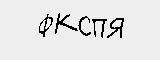К: (55, 12, 78, 34)
П: (92, 17, 108, 39)
С: (78, 16, 92, 37)
Ф: (39, 12, 52, 37)
Я: (108, 16, 125, 41)
